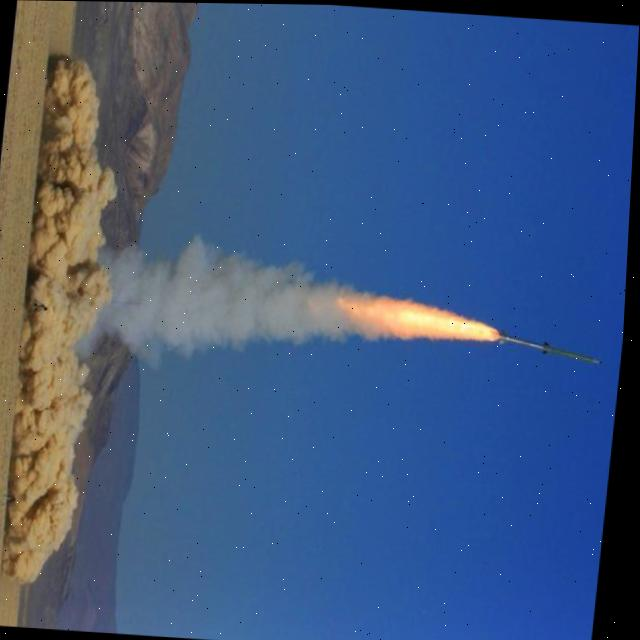missile: (489, 325, 601, 367)
